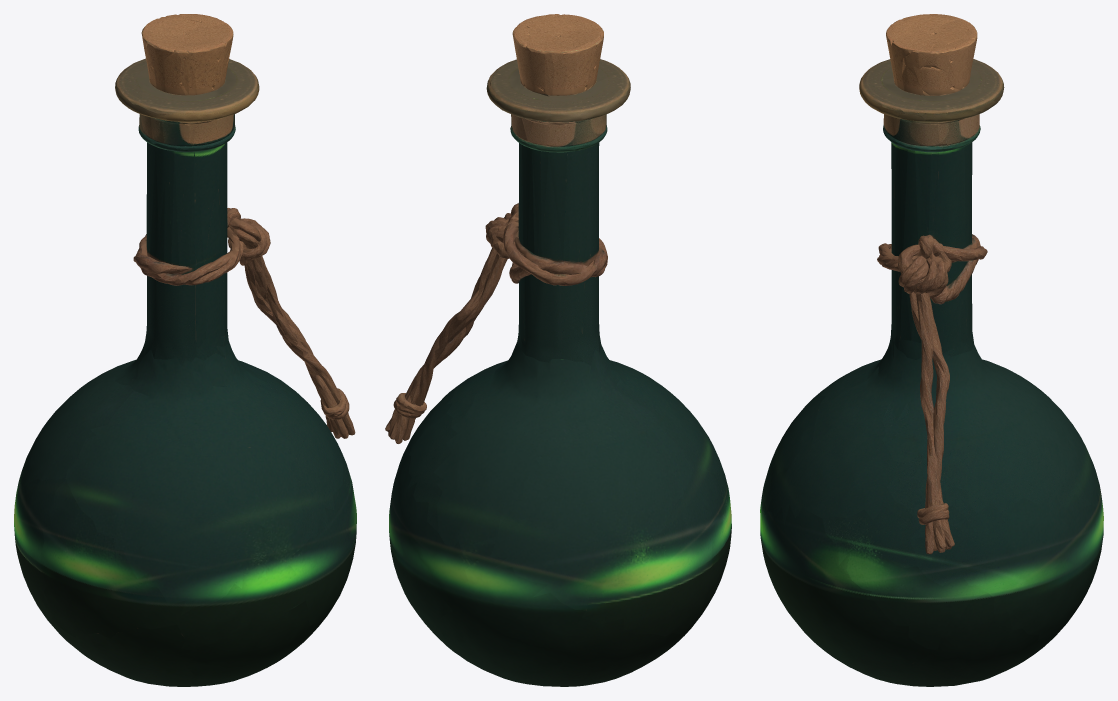
The model's file is Meshy_AI_Weapon_alchemy_flask_01a0e8cc_texture.glb.
3 views of the same model, side by side, from view 1: azimuth 30°, elevation 25°; view 2: azimuth 150°, elevation 25°; view 3: azimuth 270°, elevation 25° (orthographic).
Bounding box in the file's own units: 1.03 × 1.9 × 0.9596.
Materials: 1 (1 with a texture image).
